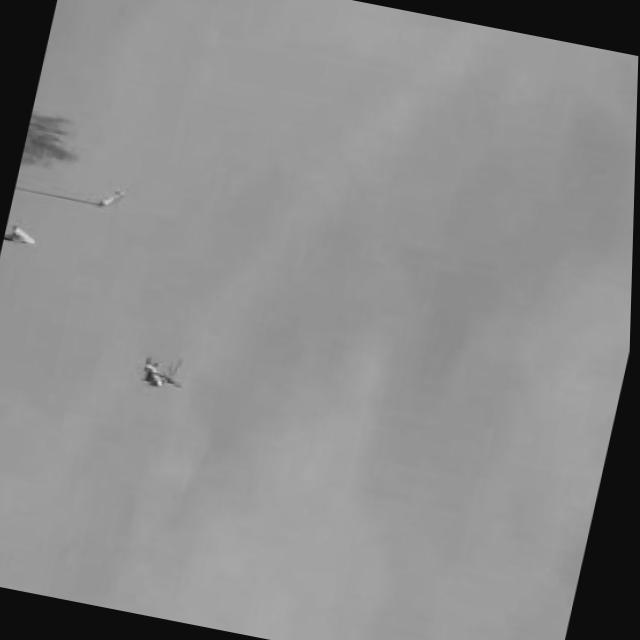helikopter: (113, 336, 206, 411)
